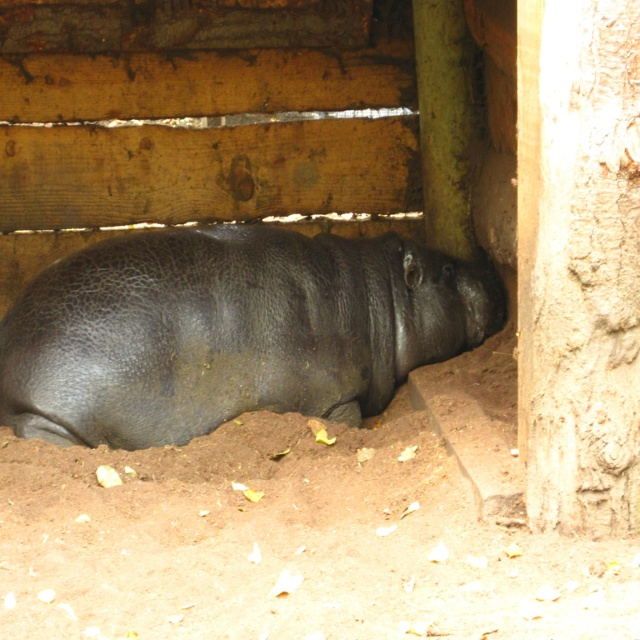Hippopotamus: (0, 217, 504, 468)
